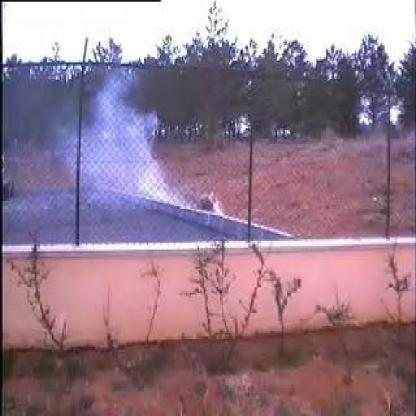-: (53, 77, 192, 212)
